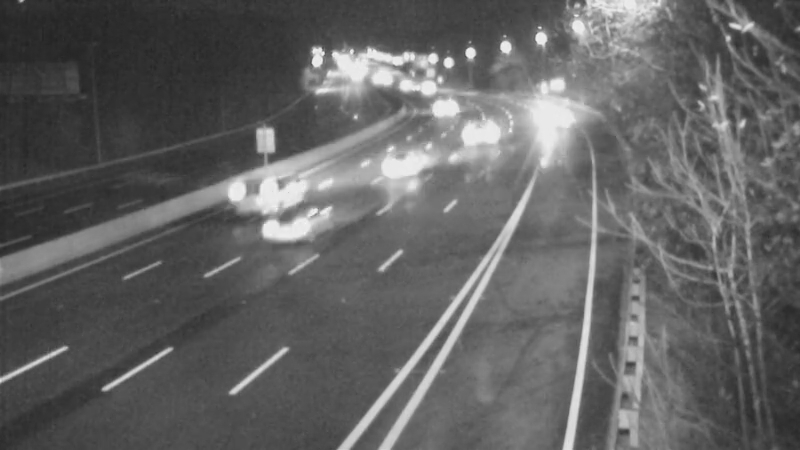vehicle: (364, 125, 444, 205), (212, 149, 292, 229), (243, 190, 323, 270), (380, 61, 430, 111), (404, 64, 454, 114), (420, 83, 470, 133), (525, 90, 575, 140), (466, 103, 516, 153)
